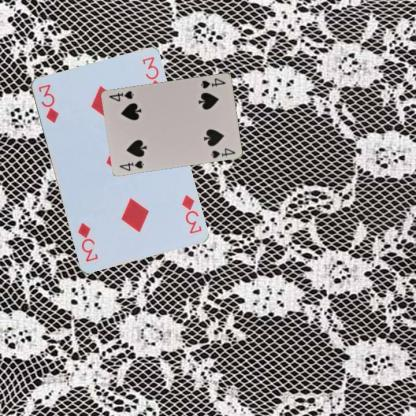3d: (178, 192, 203, 235), (35, 82, 60, 124)
4s: (198, 75, 227, 90), (117, 158, 145, 172)
